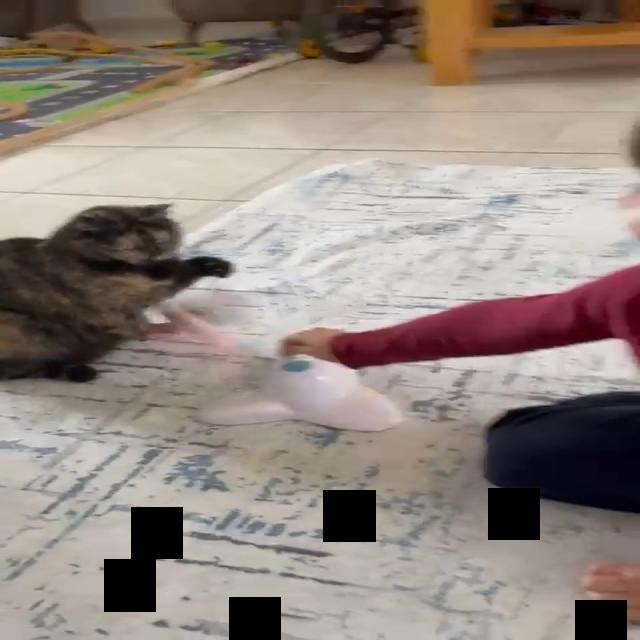authorized: (0, 202, 235, 382)
